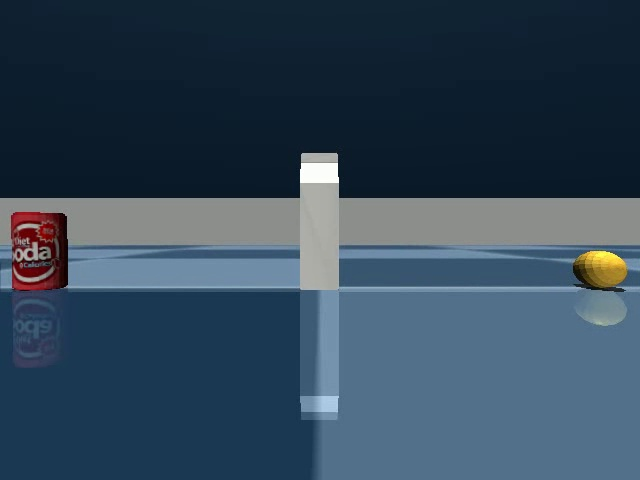can: (5, 207, 74, 298)
lemon: (569, 247, 632, 295)
milk: (292, 144, 346, 297)
